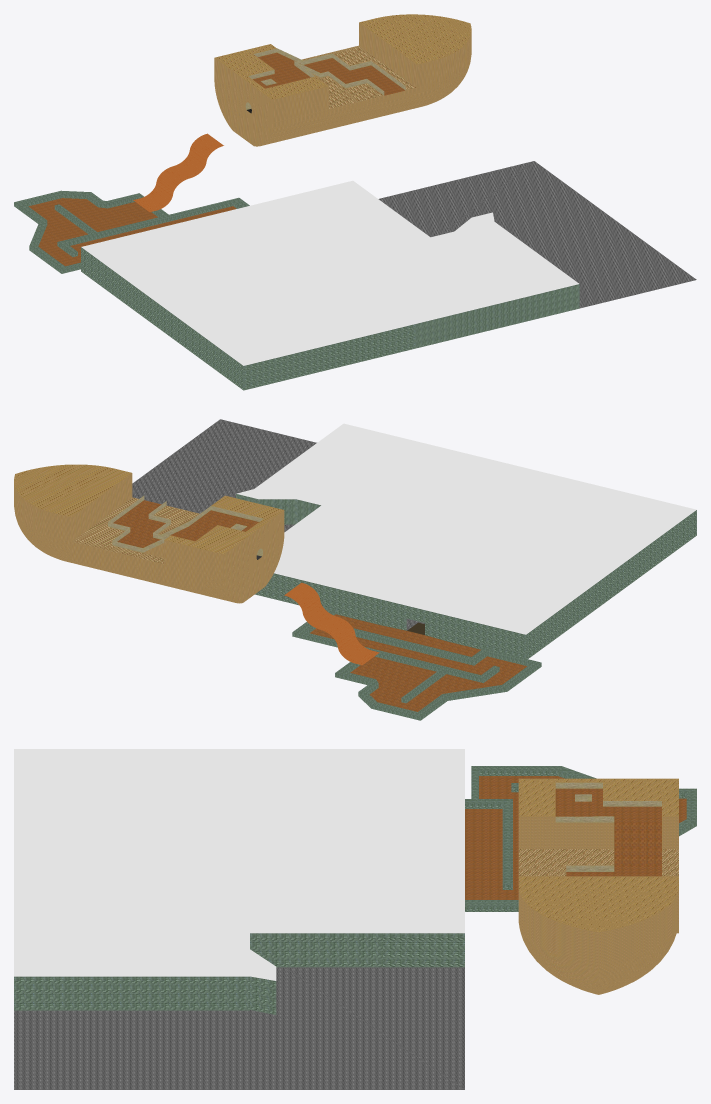
The picture shows the model from 3 angles, top to bottom: view 1: azimuth 30°, elevation 25°; view 2: azimuth 150°, elevation 25°; view 3: azimuth 270°, elevation 25°; orthographic projection. The views are drawn at different scales.
Parts seen in each view (by area): view 1: polygon23.019, polygon1.039, polygon8.031, polygon14.033, polygon13.031, polygon10.029, polygon11.033, polygon0.049, polygon15.029; view 2: polygon23.019, polygon1.039, polygon14.033, polygon8.031, polygon13.031, polygon11.033, polygon0.049, polygon15.029, polygon10.029; view 3: polygon23.019, polygon8.031, polygon1.039, polygon10.029, polygon13.031, polygon11.033, polygon14.033, polygon15.029.
Part boxes in pixels (x1,y1,x2,y2): polygon23.019: (81,180,578,365); polygon1.039: (214,14,471,146); polygon8.031: (378,161,696,308); polygon14.033: (81,247,414,390); polygon13.031: (28,52,404,266); polygon10.029: (415,284,579,348); polygon11.033: (14,190,249,273); polygon0.049: (133,133,223,212); polygon15.029: (245,48,405,109); polygon23.019: (236,423,696,634); polygon1.039: (14,464,284,603); polygon14.033: (255,510,696,658); polygon8.031: (132,419,424,630); polygon13.031: (113,500,526,711); polygon11.033: (292,607,541,720); polygon0.049: (284,582,379,665); polygon15.029: (108,495,263,556); polygon10.029: (236,494,320,524); polygon23.019: (14,749,464,980); polygon8.031: (14,967,464,1089); polygon1.039: (518,778,678,994); polygon10.029: (14,933,382,1014); polygon13.031: (465,776,686,899); polygon11.033: (465,766,696,911); polygon14.033: (382,933,464,967); polygon15.029: (555,782,661,871).
Bounding box in the file's own units: 116923 × 25246 × 105997.
Materials: 13 (13 with a texture image).
